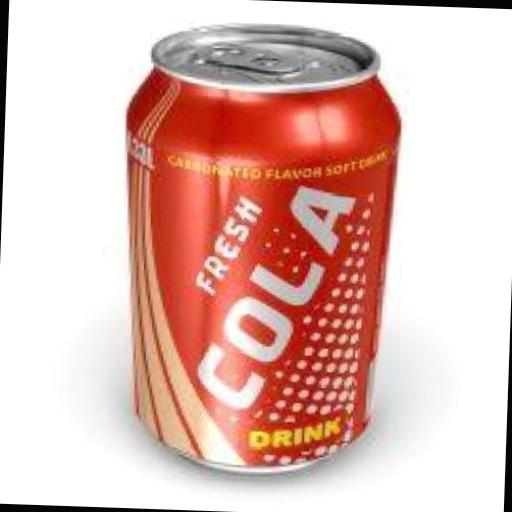metal: (111, 17, 402, 474)
